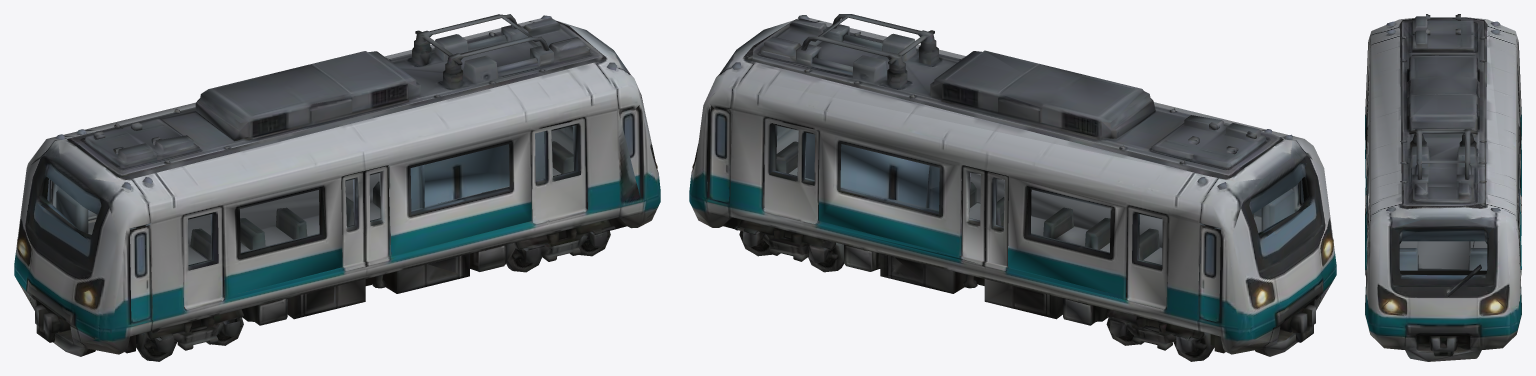
Rendered from silver-metro-car.glb.
The picture shows the model from 3 angles, left to right: view 1: azimuth 30°, elevation 25°; view 2: azimuth 150°, elevation 25°; view 3: azimuth 270°, elevation 25°; orthographic projection. The views are drawn at different scales.
Visible parts, largest first — view 1: tripo_node_8e496297-02fa-4bb6-be96-ed8e9f00f630; view 2: tripo_node_8e496297-02fa-4bb6-be96-ed8e9f00f630; view 3: tripo_node_8e496297-02fa-4bb6-be96-ed8e9f00f630.
Boxes of the visible parts, x1,y1,x2,y2 form: tripo_node_8e496297-02fa-4bb6-be96-ed8e9f00f630: (14, 14, 660, 361); tripo_node_8e496297-02fa-4bb6-be96-ed8e9f00f630: (689, 14, 1336, 361); tripo_node_8e496297-02fa-4bb6-be96-ed8e9f00f630: (1365, 14, 1521, 361).
Bounding box in the file's own units: 1 × 0.3424 × 0.2915.
1 material, 1 textured.
